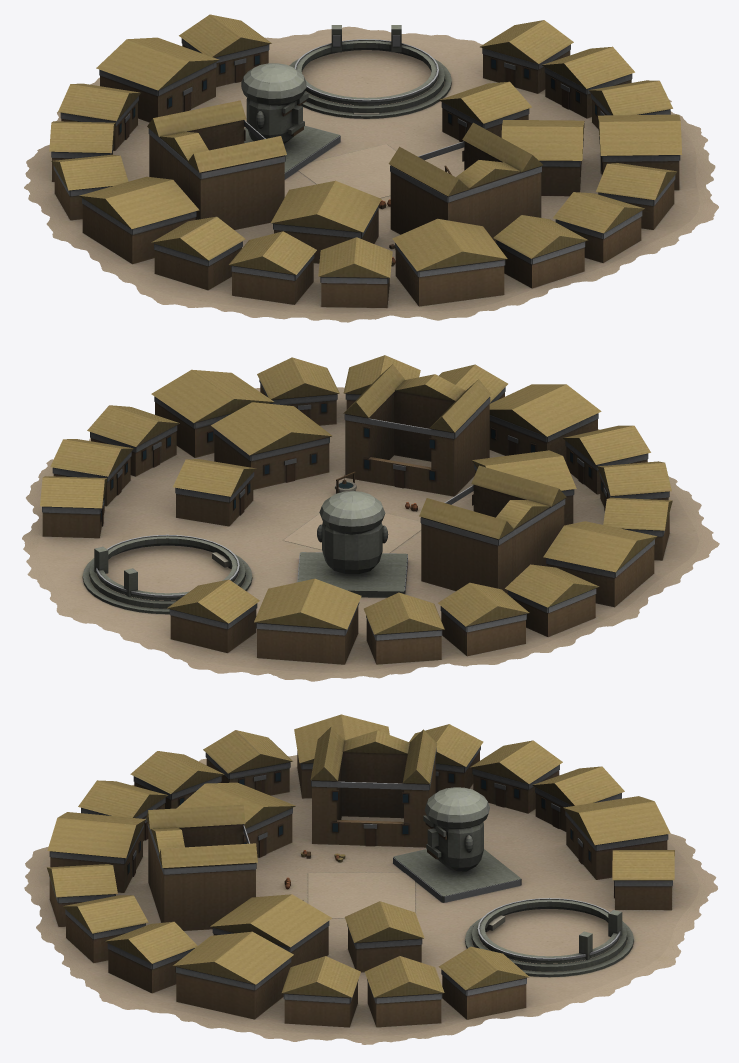
File: bronze-town-big-a-americas.glb
3 views of the same model, one above another, from view 1: azimuth 30°, elevation 25°; view 2: azimuth 150°, elevation 25°; view 3: azimuth 270°, elevation 25° (orthographic).
Visible parts, largest first — view 1: LOD0; view 2: LOD0; view 3: LOD0.
Part boxes in pixels (left/top/right/bottom): LOD0: left=24, top=14, right=718, bottom=322; LOD0: left=22, top=355, right=719, bottom=681; LOD0: left=24, top=714, right=717, bottom=1044.
Size of what is drawn, in the model's own units: 7.9 by 1.05 by 8.
3 materials, 3 textured.
